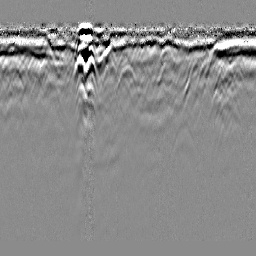cavity: (114, 63, 138, 96)
